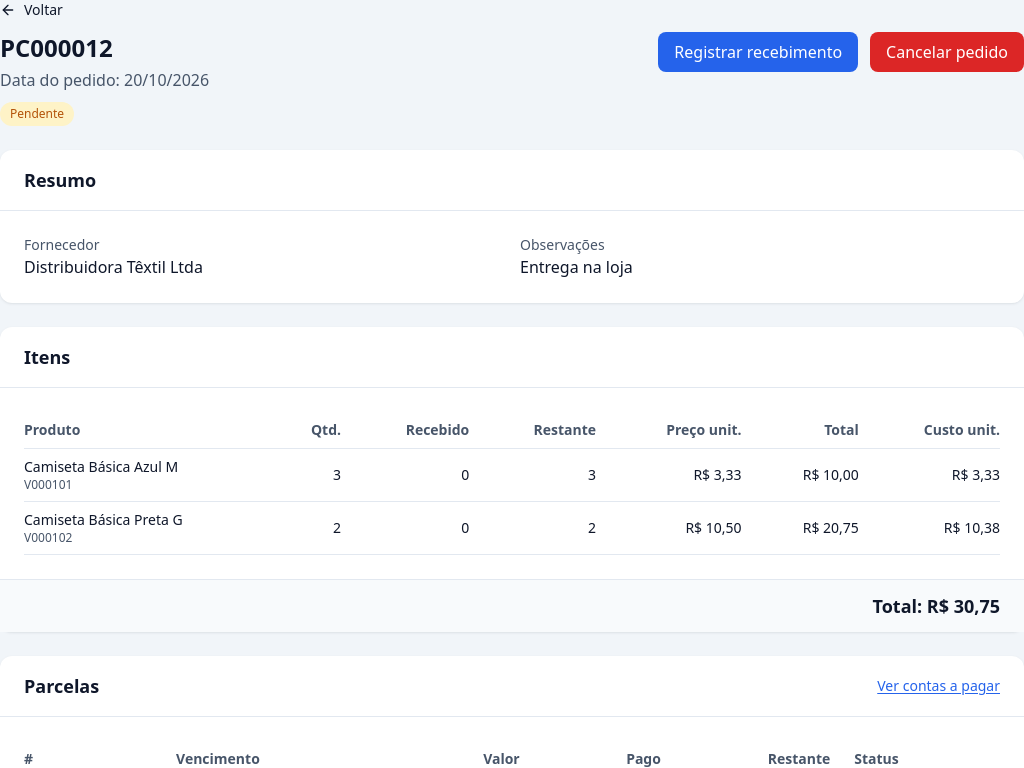
Test: PurchaseDetailPage › 409 PURCHASE_HAS_PAYMENTS aparece uma vez
Expected: the heading "PC000012" is shown, [0, 31, 113, 64]
Click the button "Cancelar pedido" at (947, 52), box [870, 32, 1023, 72]
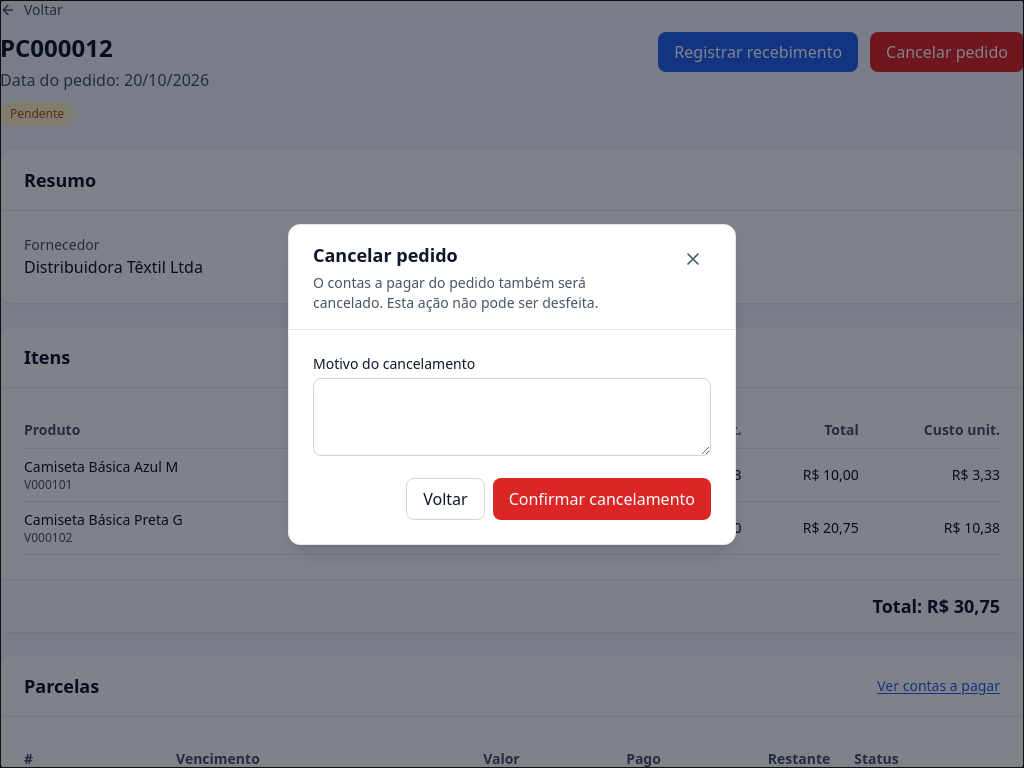
Type "Erro de digitação" into the text box labelled "Motivo do cancelamento" at (512, 416), box [313, 378, 711, 456]
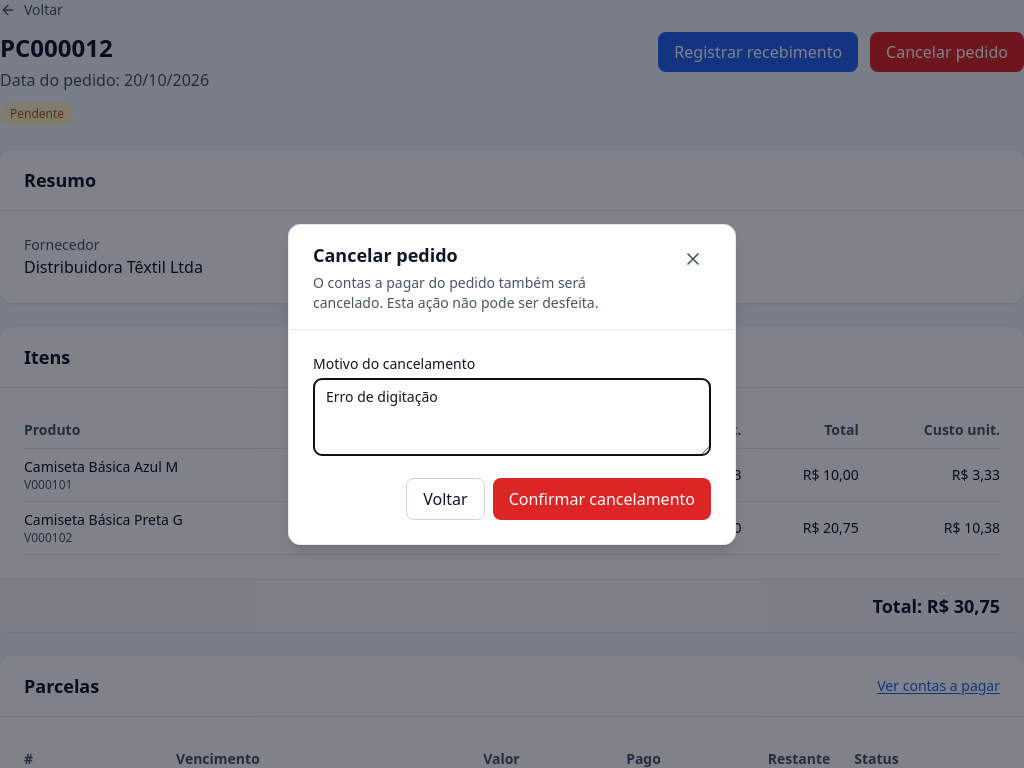
Click the button "Confirmar cancelamento" at (602, 498), box [493, 478, 711, 520]
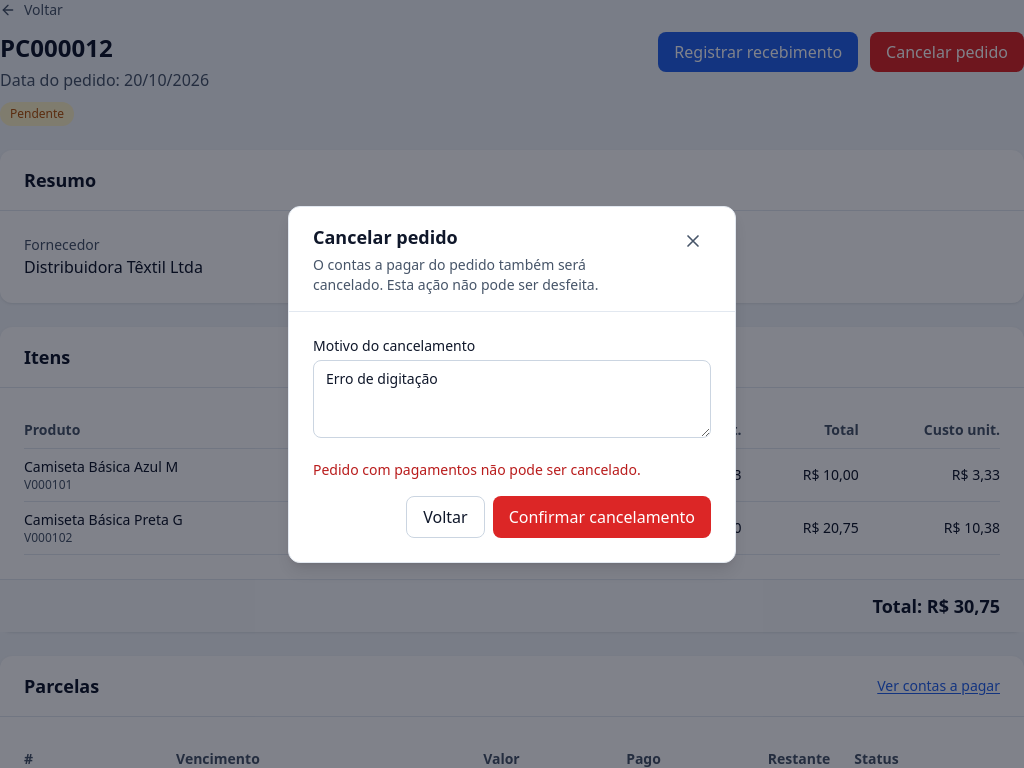
Expected: the text "Pedido com pagamentos não pode ser cancelado." is shown once, [313, 460, 641, 478]
